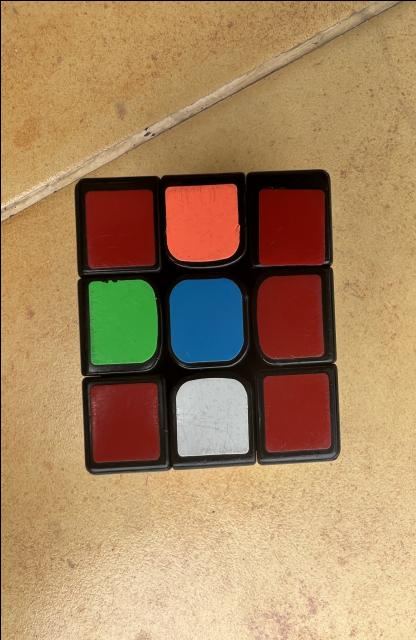Blue: (168, 278, 243, 362)
Green: (88, 279, 157, 364)
Orange: (165, 182, 239, 261)
Red: (256, 274, 323, 358), (84, 189, 154, 268), (89, 381, 158, 461), (262, 371, 330, 451), (258, 188, 324, 265)
White: (174, 376, 248, 455)
